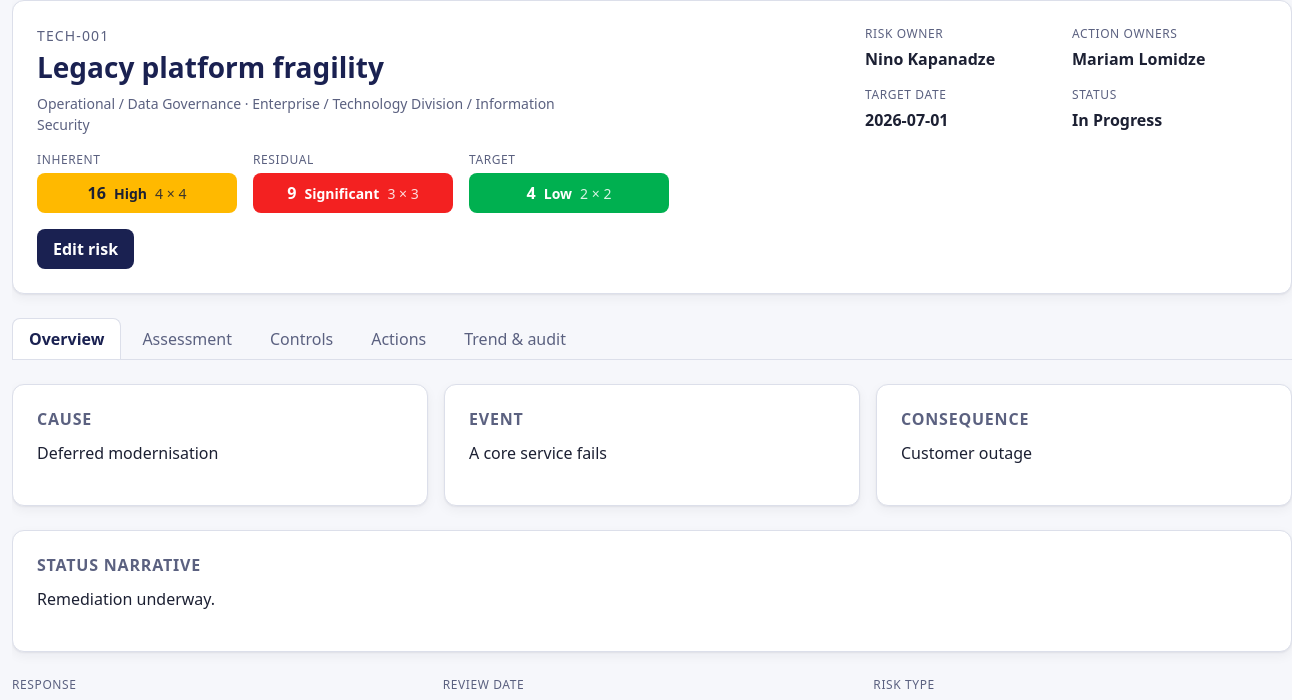
Test: assessment tab › derives each cell rating from the configured matrix
The width and height of the screenshot is (1292, 700).
Click the tab "Assessment" at (187, 339), box left=125, top=318, right=249, bottom=359
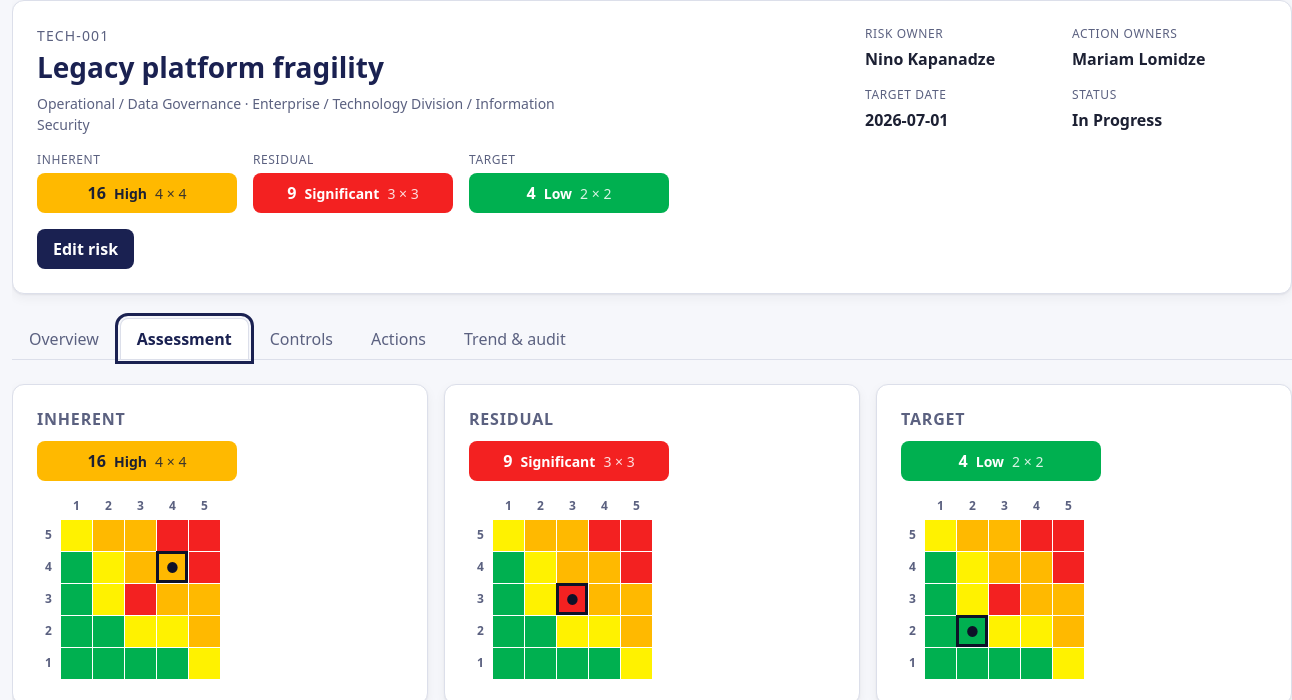
Now the cell named "Impact 3, Likelihood 3: Significant" is shown, box left=556, top=583, right=588, bottom=615
